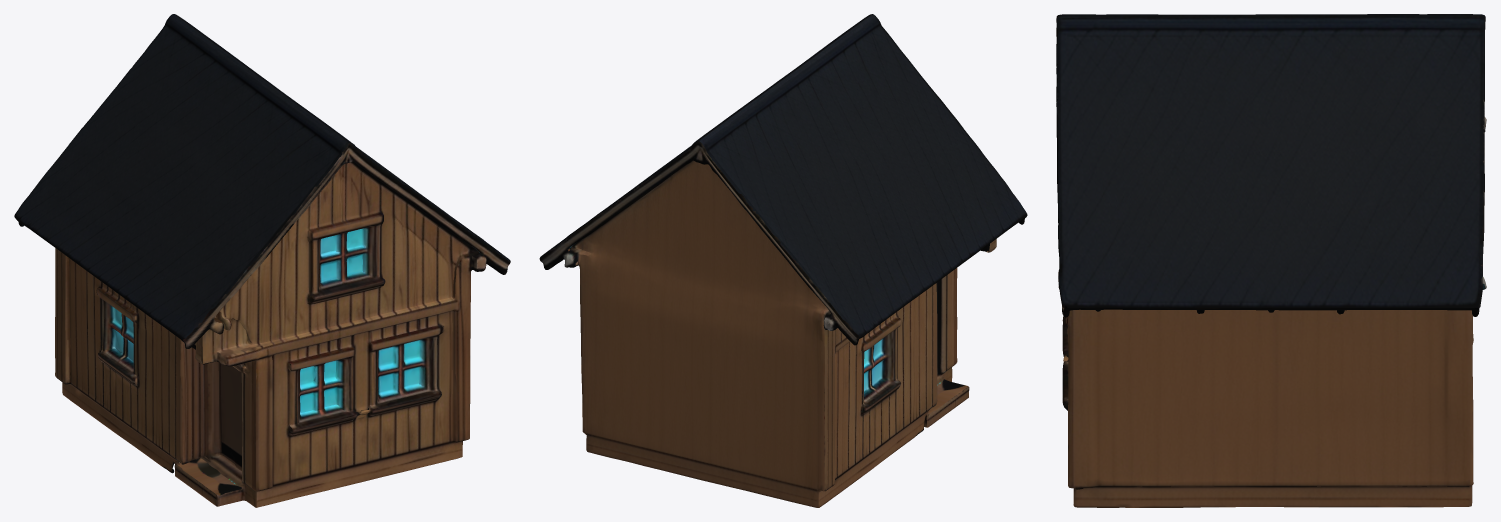
The model's file is house-rural-timber-house.glb.
3 views of the same model, side by side, from view 1: azimuth 30°, elevation 25°; view 2: azimuth 150°, elevation 25°; view 3: azimuth 270°, elevation 25° (orthographic). The views are drawn at different scales.
Visible parts, largest first — view 1: tmpf7cbf0t1.ply; view 2: tmpf7cbf0t1.ply; view 3: tmpf7cbf0t1.ply.
Part boxes in pixels (x1,y1,x2,y2): tmpf7cbf0t1.ply: [14, 14, 510, 507]; tmpf7cbf0t1.ply: [539, 14, 1027, 507]; tmpf7cbf0t1.ply: [1056, 14, 1486, 507].
Size of the model in its own units: 1.92 by 1.96 by 1.81.
1 material, 1 textured.
